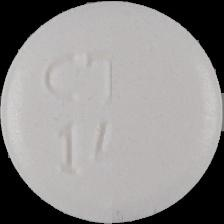66336-602: (0, 0, 224, 224)
